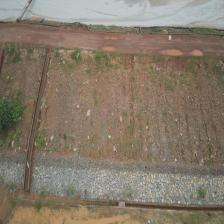rock toe: (31, 155, 224, 205), (0, 159, 24, 184)
slope drain: (23, 50, 51, 190)
